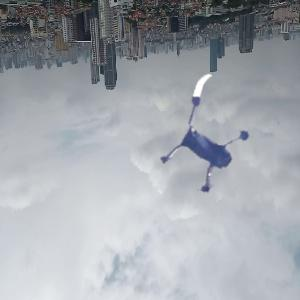drone: (148, 72, 287, 211)
